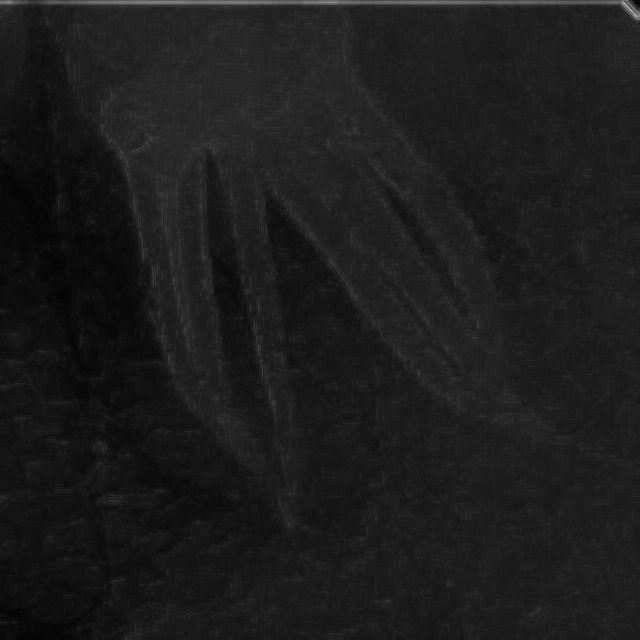Class 0- No endodontic treatment: (38, 2, 640, 574)
